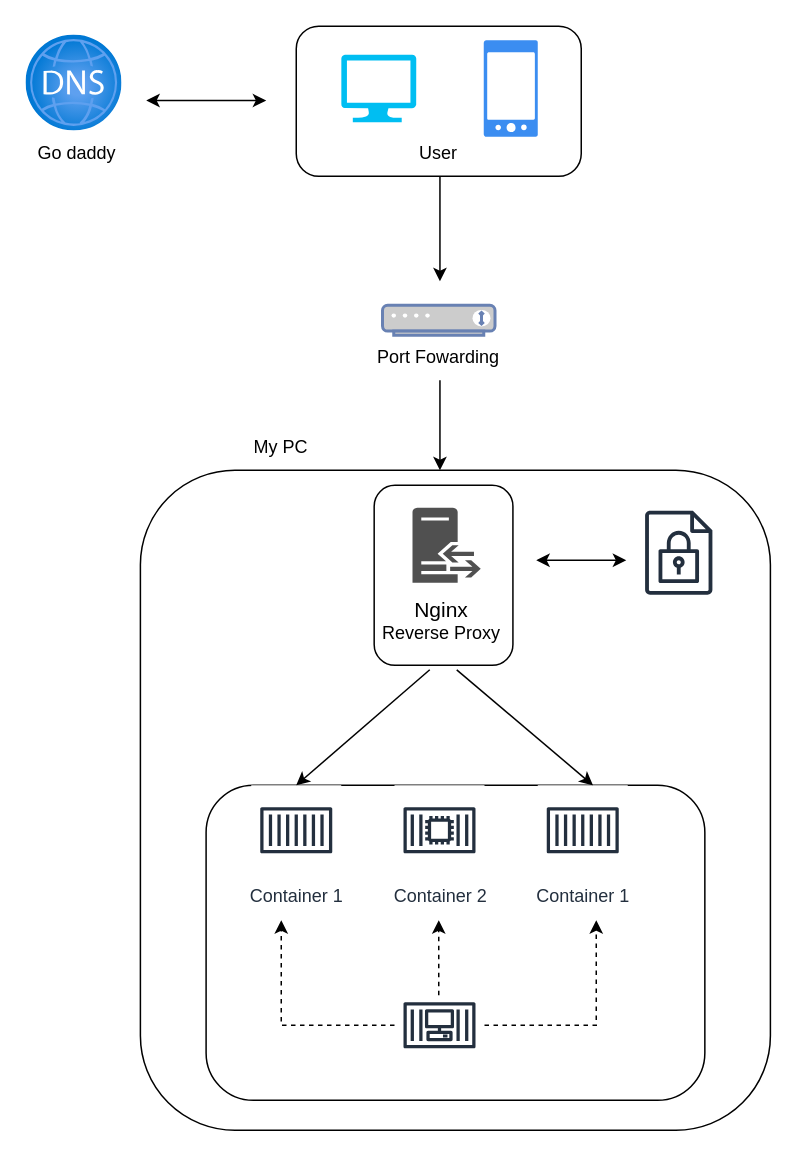
The diagram is 797 pixels wide and 1157 high, and some of its shapes have lost their labels. Each missing label, with the centre of its shape:
Lets Encrypt: (x=678, y=552)
Portainer Container: (x=438, y=1024)
